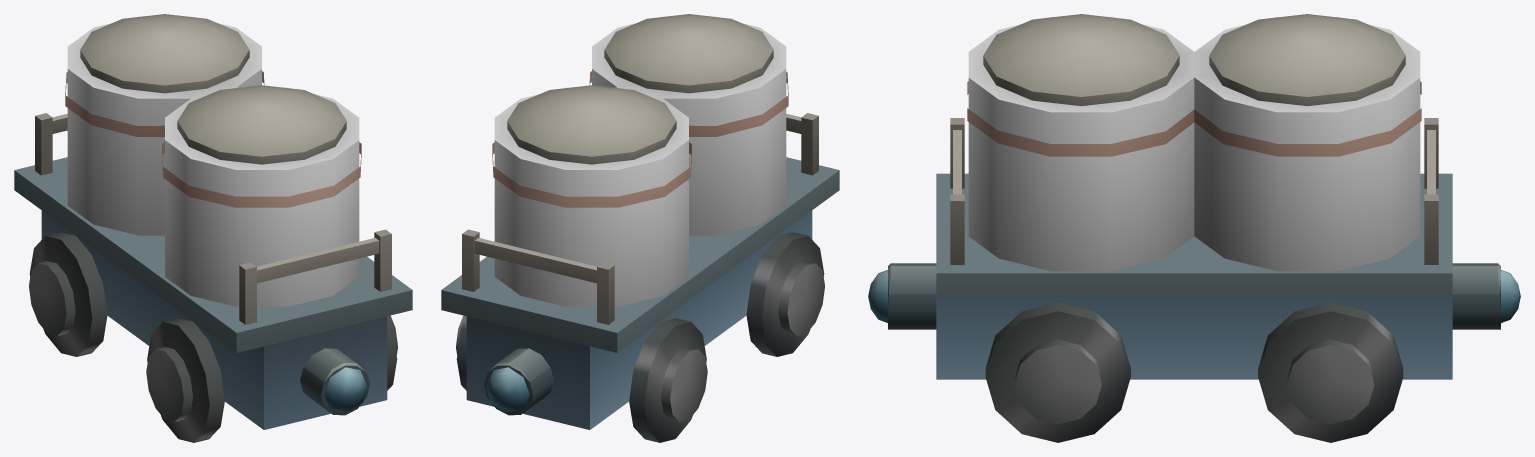
The model's file is Carriage_Tank_B.fbx.
3 renders of one model, left to right at view 1: azimuth 30°, elevation 25°; view 2: azimuth 150°, elevation 25°; view 3: azimuth 270°, elevation 25°, orthographic. The views are drawn at different scales.
Parts seen in each view (by area): view 1: Carriage_Tank_B; view 2: Carriage_Tank_B; view 3: Carriage_Tank_B.
Boxes of the visible parts, bbox=[...] form: Carriage_Tank_B: bbox=[14, 14, 412, 442]; Carriage_Tank_B: bbox=[441, 14, 839, 442]; Carriage_Tank_B: bbox=[868, 14, 1520, 442].
Size of the model in its own units: 276 by 373 by 627.
